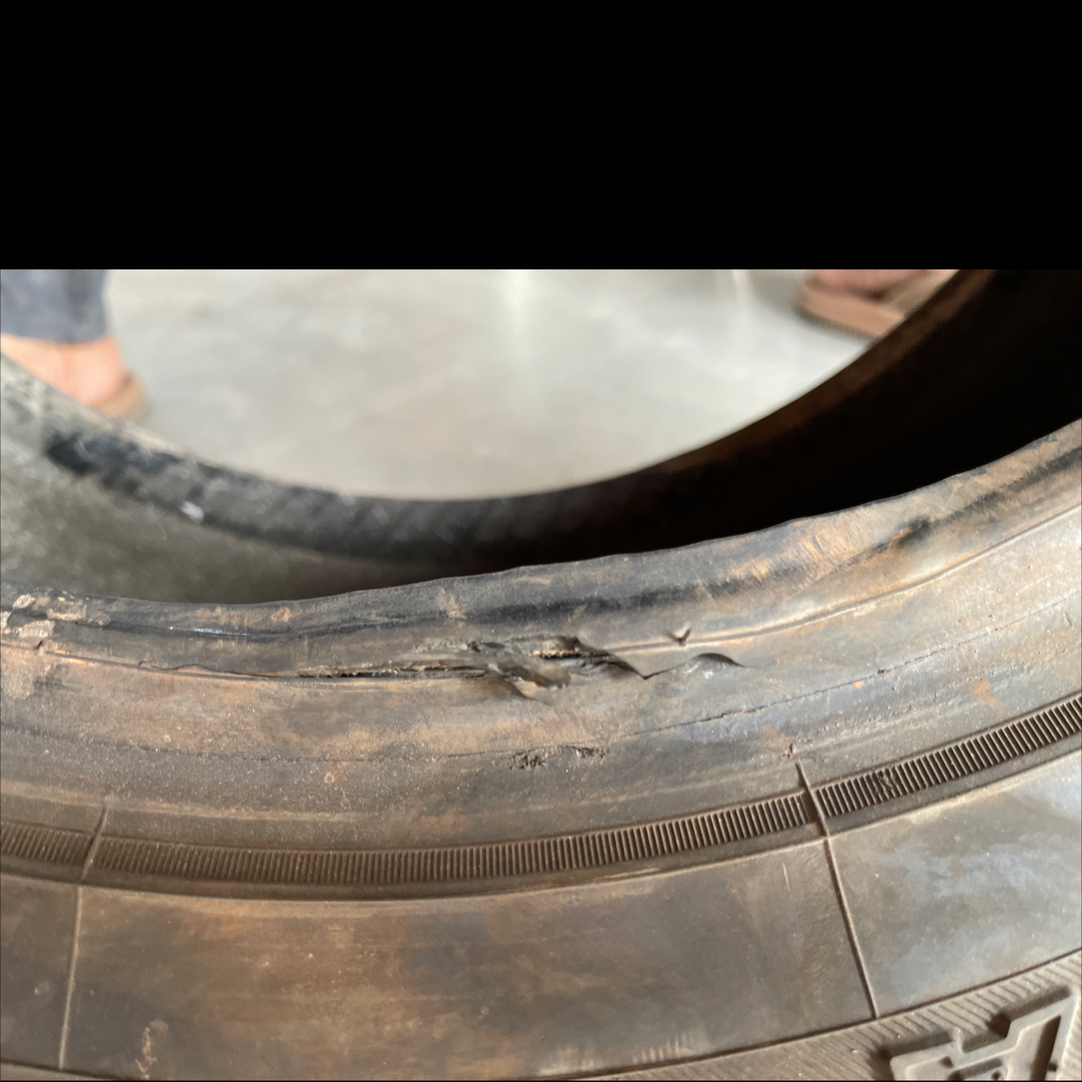bead_damage: (0, 414, 1081, 784)
